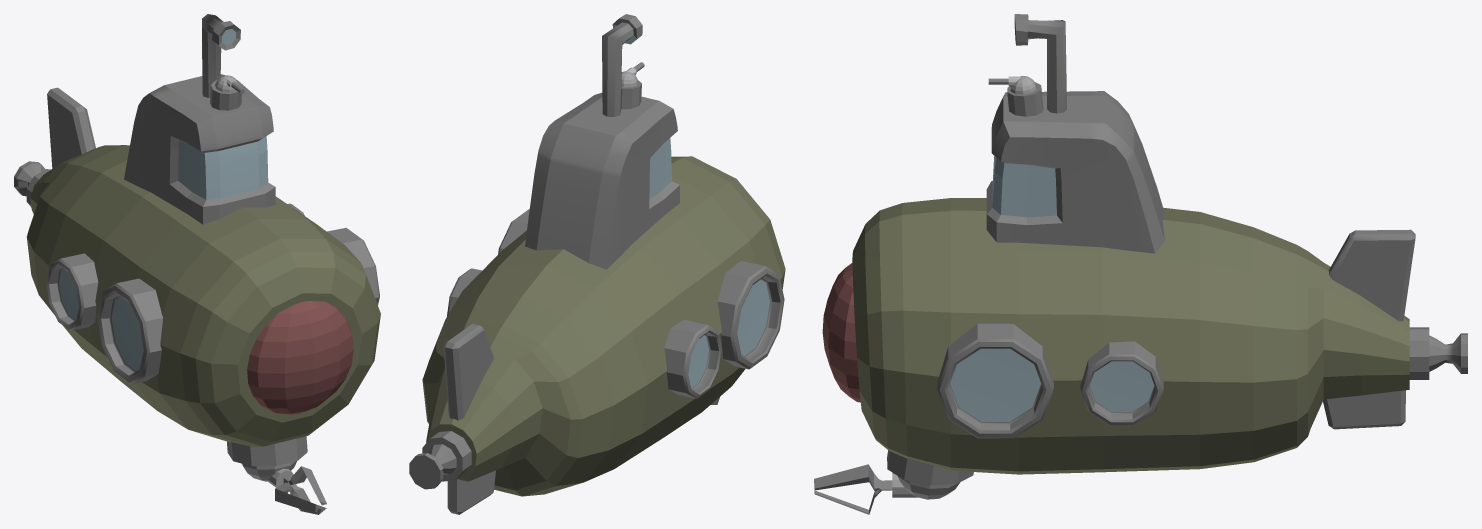
Rendered from Submarine with Grapple Upgrade.fbx.
3 views of the same model, side by side, from view 1: azimuth 30°, elevation 25°; view 2: azimuth 150°, elevation 25°; view 3: azimuth 270°, elevation 25° (orthographic). The views are drawn at different scales.
Visible parts, largest first — view 1: Starting_Submarine, Grapple_upgrade; view 2: Starting_Submarine; view 3: Starting_Submarine, Grapple_upgrade.
Boxes of the visible parts, x1,y1,x2,y2 form: Starting_Submarine: [14, 14, 380, 447]; Grapple_upgrade: [227, 436, 326, 514]; Starting_Submarine: [409, 14, 785, 514]; Starting_Submarine: [822, 14, 1467, 474]; Grapple_upgrade: [814, 450, 973, 514].
Bounding box in the file's own units: 4.28 × 7.55 × 9.03.
